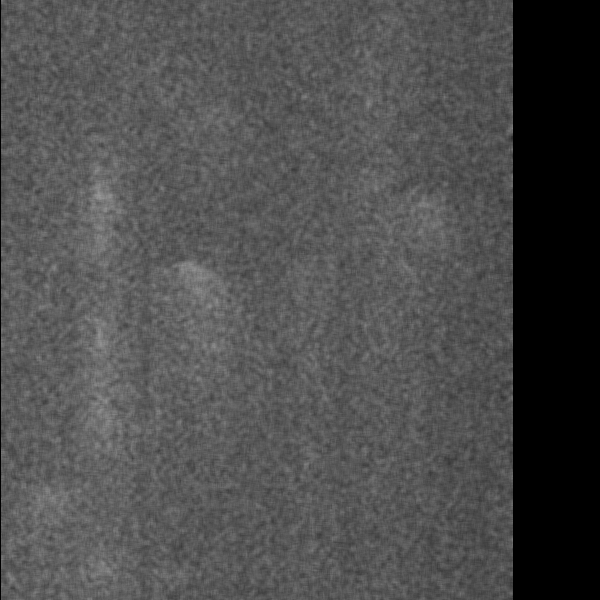spark: (367, 319, 408, 551), (424, 452, 495, 521), (83, 67, 150, 122), (198, 408, 272, 457)
